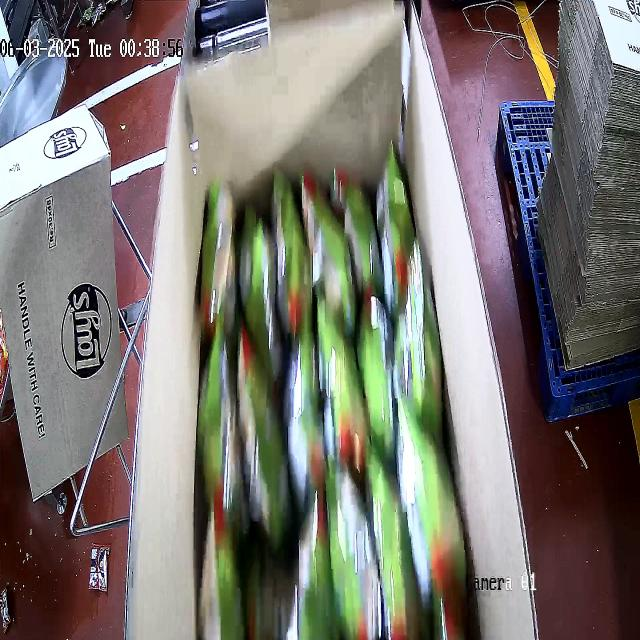YOGURT_HERB: (194, 140, 468, 638)
